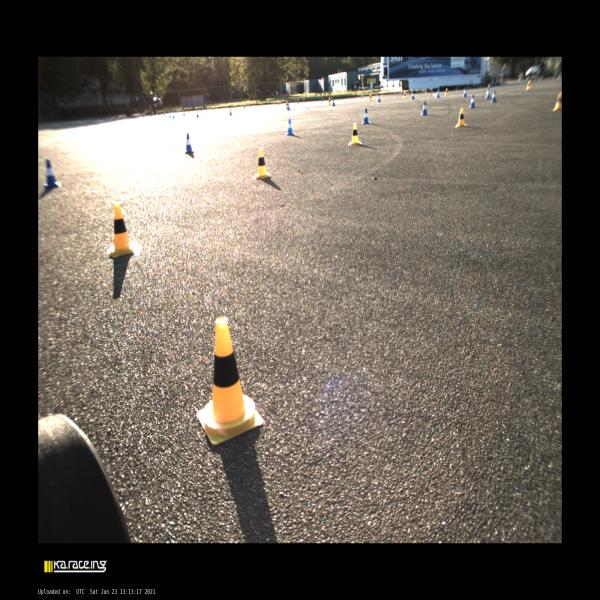blue_cone: (44, 159, 61, 187), (185, 134, 194, 154), (286, 118, 294, 136), (362, 108, 371, 124), (420, 101, 429, 115), (469, 94, 476, 108), (490, 90, 497, 103), (485, 88, 490, 99), (462, 88, 467, 97), (436, 90, 440, 98), (377, 94, 381, 102), (411, 92, 415, 99), (287, 102, 290, 110), (333, 98, 335, 106), (230, 108, 232, 116), (196, 110, 198, 118), (169, 111, 170, 118), (183, 112, 185, 115), (173, 112, 174, 118), (361, 94, 362, 98), (322, 98, 323, 101)
yellow_cone: (196, 318, 264, 446), (108, 205, 133, 257), (254, 147, 270, 179), (348, 123, 362, 145), (455, 108, 467, 127), (553, 90, 562, 111), (526, 80, 530, 90), (369, 93, 372, 102), (403, 91, 406, 99), (445, 88, 448, 96), (329, 97, 331, 105), (286, 101, 288, 108), (303, 98, 305, 104), (234, 104, 236, 110), (331, 96, 333, 101), (244, 104, 245, 110), (425, 88, 426, 94)
